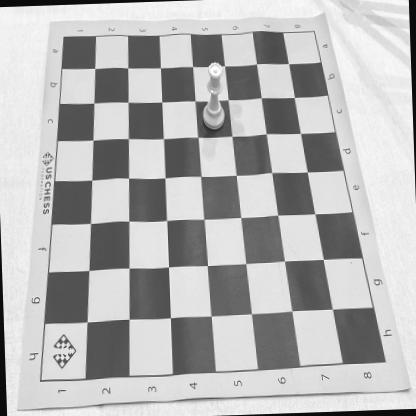white-queen: (201, 62, 226, 131)
